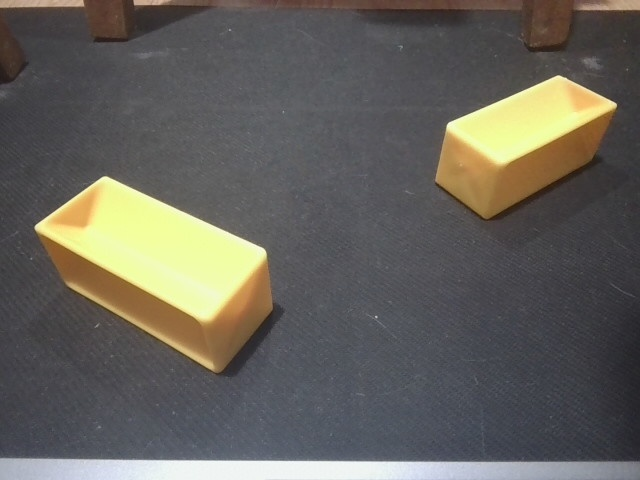YellowSample: (30, 170, 276, 377), (430, 74, 621, 219)
